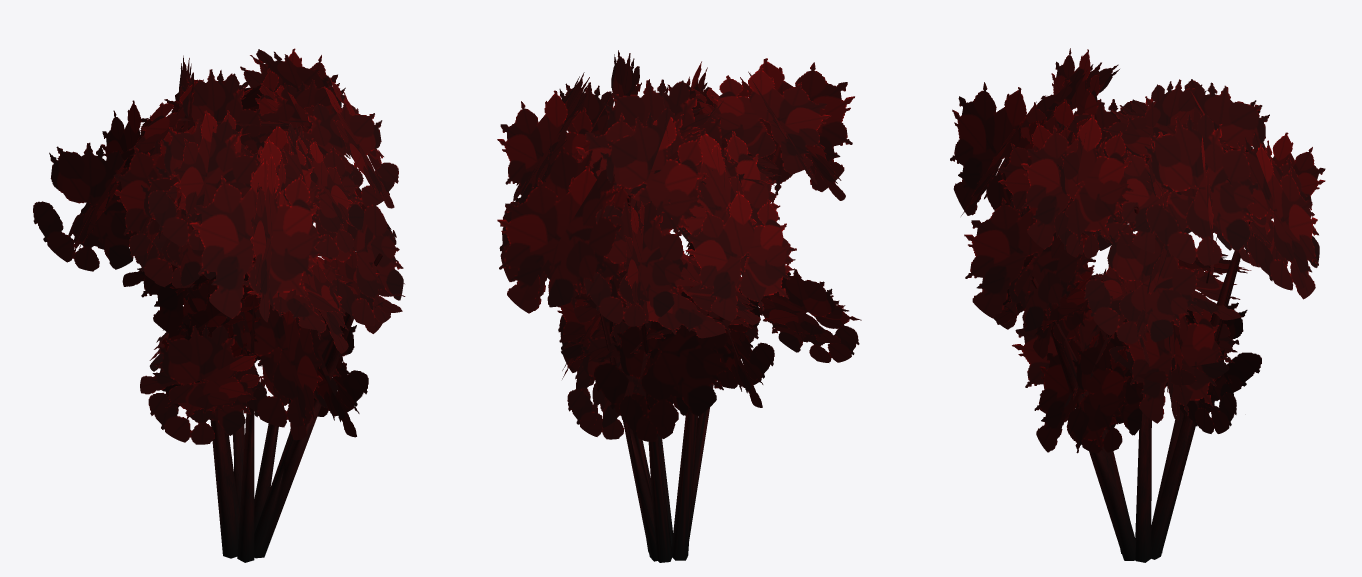
Rendered from bush_jungle_a_lod2.glb.
3 renders of one model, left to right at view 1: azimuth 30°, elevation 25°; view 2: azimuth 150°, elevation 25°; view 3: azimuth 270°, elevation 25°, orthographic. The views are drawn at different scales.
Visible parts, largest first — view 1: bush_jungle_a; view 2: bush_jungle_a; view 3: bush_jungle_a.
Boxes of the visible parts, x1,y1,x2,y2 form: bush_jungle_a: (33, 48, 405, 562); bush_jungle_a: (497, 50, 861, 562); bush_jungle_a: (950, 48, 1325, 562).
Bounding box in the file's own units: 1.22 × 1.68 × 1.31.
Materials: 1 (1 with a texture image).
